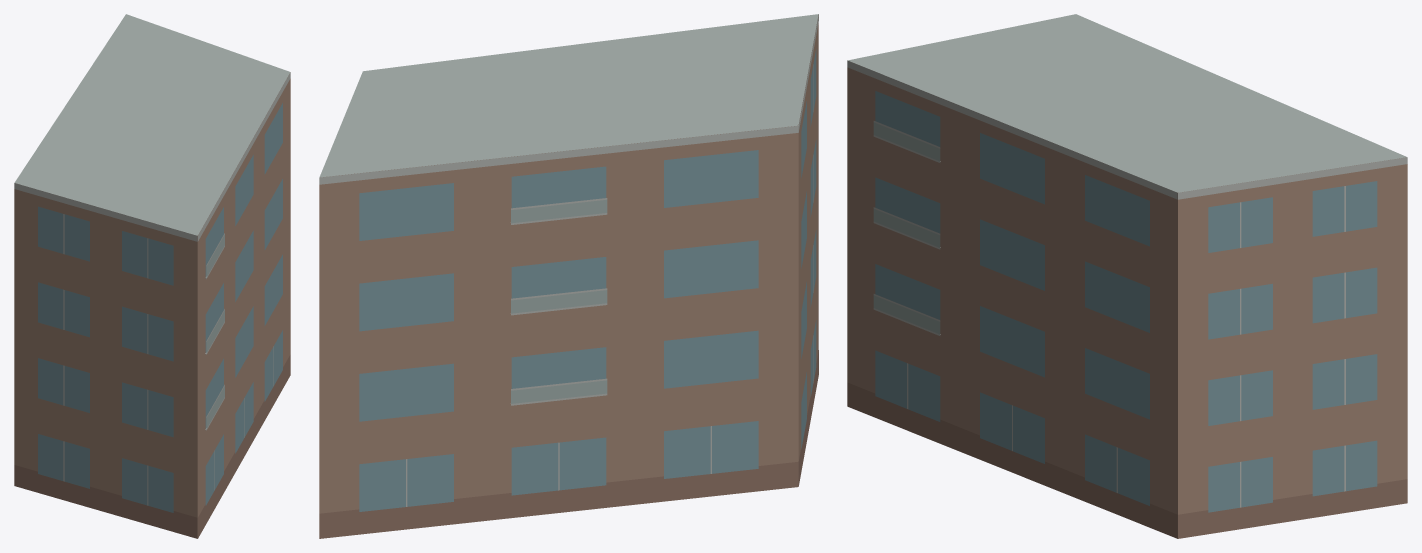
Rendered from survey-upis-32635481.glb.
3 views of the same model, side by side, from view 1: azimuth 30°, elevation 25°; view 2: azimuth 150°, elevation 25°; view 3: azimuth 270°, elevation 25° (orthographic). The views are drawn at different scales.
Parts seen in each view (by area): view 1: survey-upis-32635481.tmp; view 2: survey-upis-32635481.tmp; view 3: survey-upis-32635481.tmp.
Boxes of the visible parts, x1=… form: survey-upis-32635481.tmp: x1=14, y1=14, x2=290, y2=538; survey-upis-32635481.tmp: x1=319, y1=14, x2=818, y2=538; survey-upis-32635481.tmp: x1=847, y1=14, x2=1407, y2=538.
Bounding box in the file's own units: 13.53 × 12.2 × 17.9.
